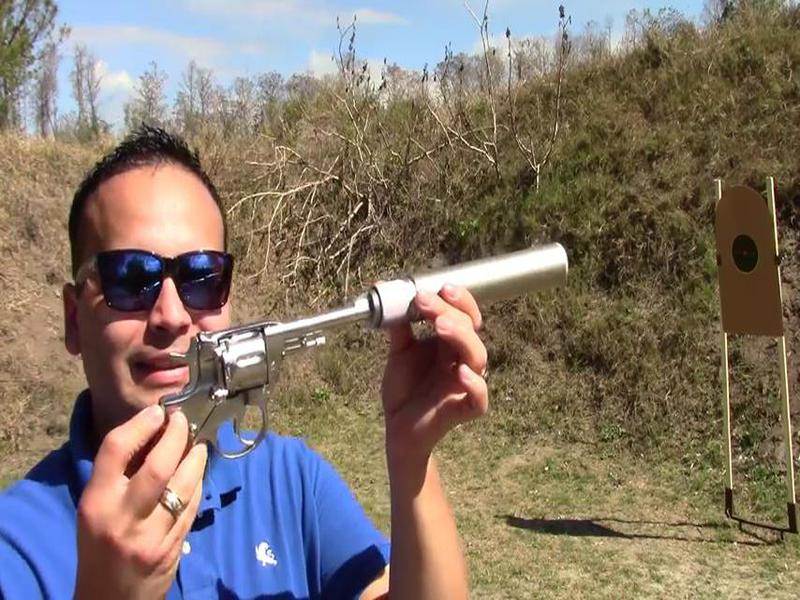Revolver: (133, 246, 368, 524)
